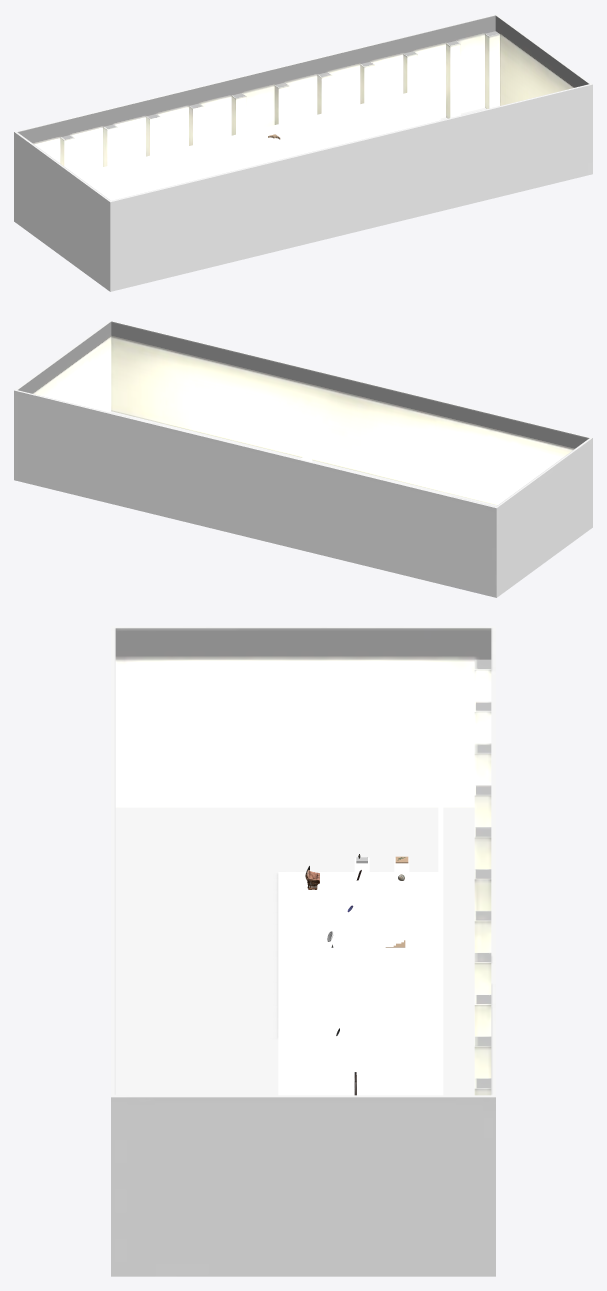
The picture shows the model from 3 angles, top to bottom: view 1: azimuth 30°, elevation 25°; view 2: azimuth 150°, elevation 25°; view 3: azimuth 270°, elevation 25°; orthographic projection. The views are drawn at different scales.
Visible parts, largest first — view 1: G-__558777, G-__555564, G-__558768; view 2: G-__558777; view 3: G-__558777, G-__558768, G-__555564, G-__556995, G-__557346.
Part boxes in pixels (x1,y1,x2,y2): G-__558777: (14, 14, 592, 291); G-__555564: (96, 127, 303, 200); G-__558768: (268, 85, 440, 153); G-__558777: (14, 320, 592, 597); G-__558777: (111, 626, 495, 1276); G-__558768: (278, 949, 443, 1095); G-__555564: (278, 782, 443, 949); G-__556995: (311, 908, 393, 947); G-__557346: (299, 857, 409, 907).
Bounding box in the file's own units: 33.78 × 6.01 × 11.68.
Materials: 40 (31 with a texture image).
